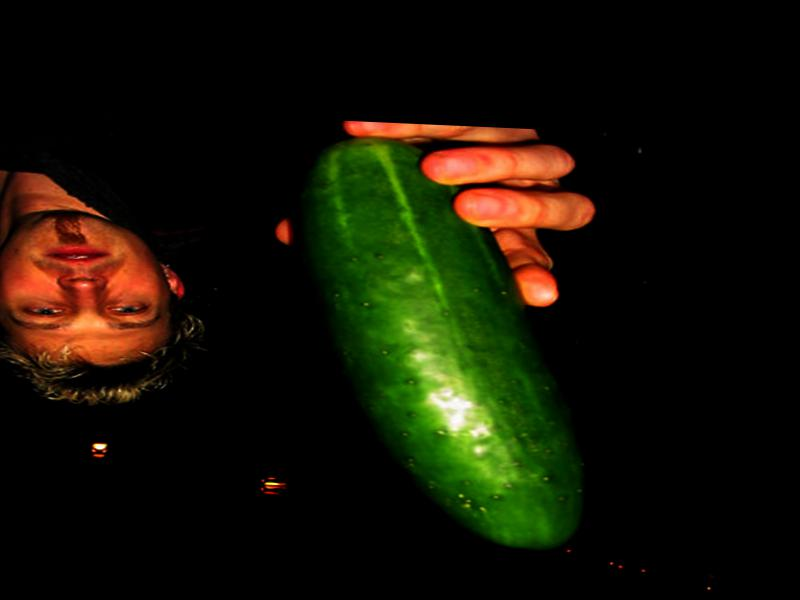Cucumber: (289, 137, 601, 550)
